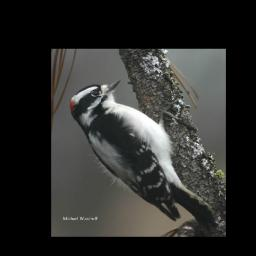Woodpecker: (69, 80, 217, 230)
